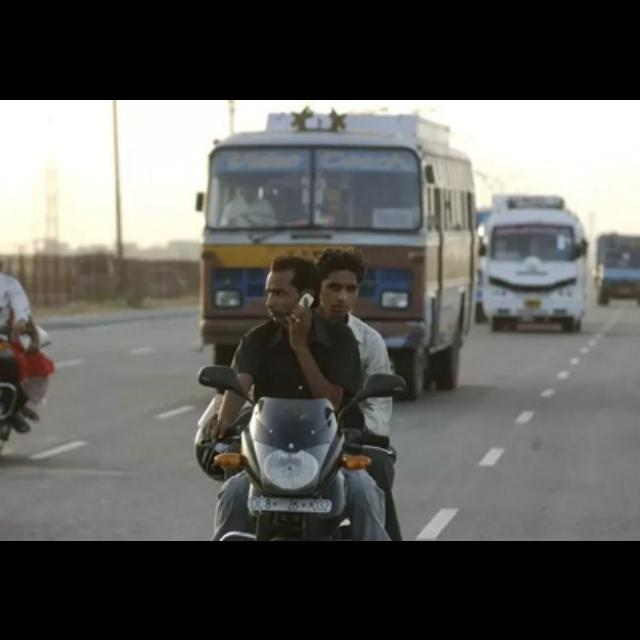Without Helmet: (264, 248, 324, 326)
